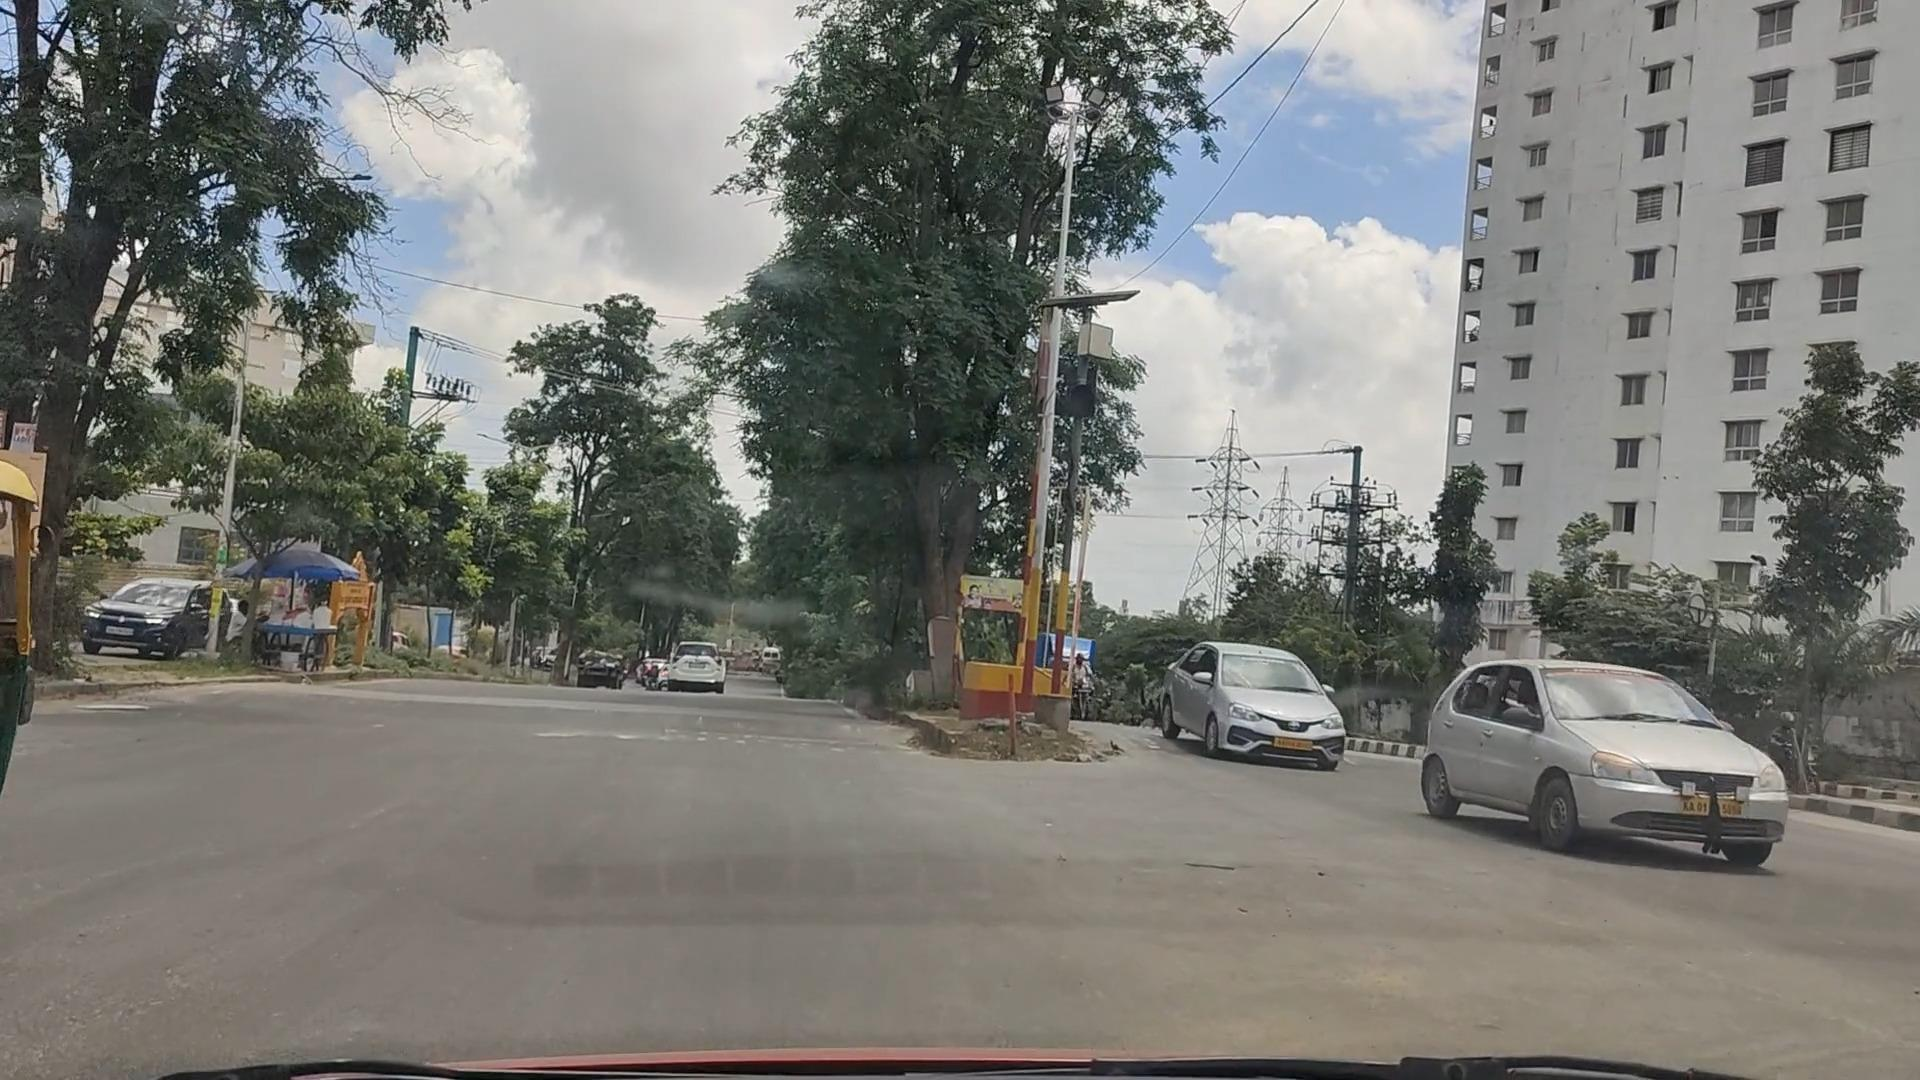LMV: (1415, 662, 1793, 864), (1160, 629, 1353, 771)
